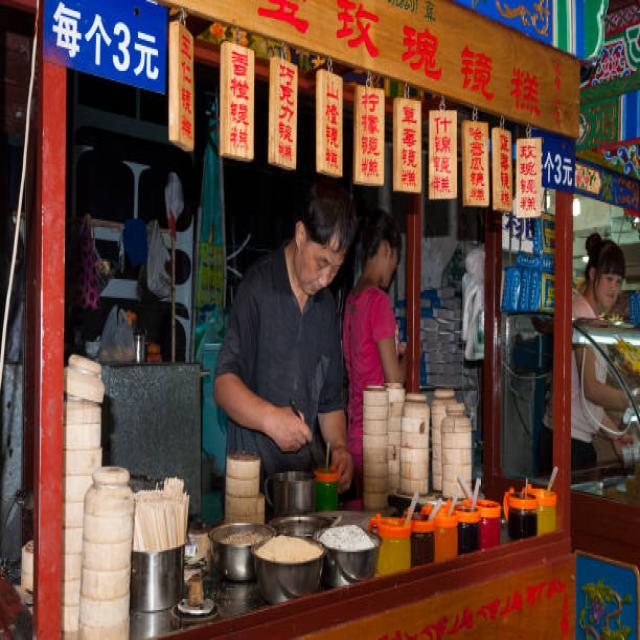Emperan: (22, 0, 610, 640)
